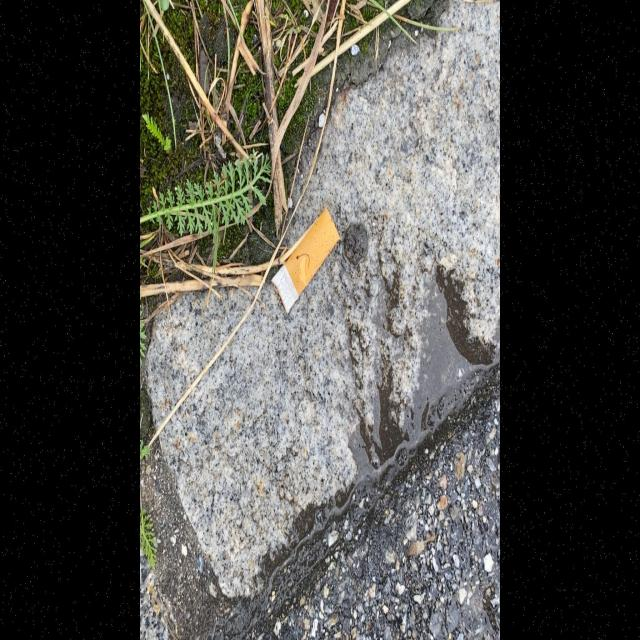other waste: (270, 206, 341, 314)
